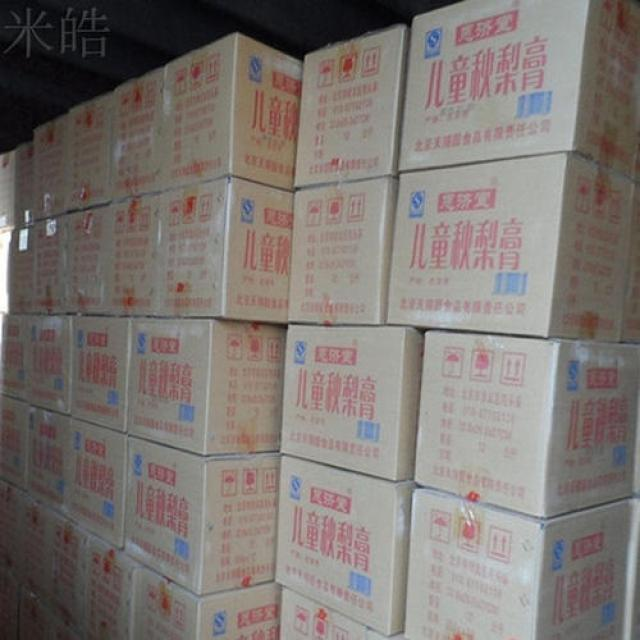Carton: (3, 0, 639, 639)
